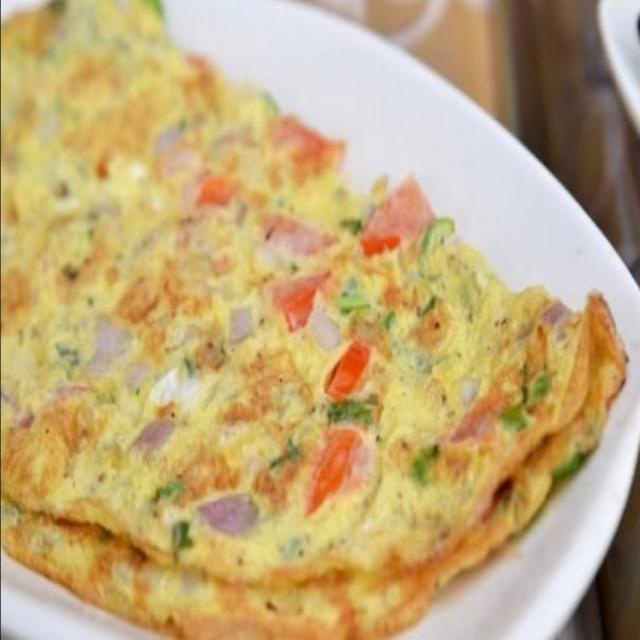EGG: (1, 0, 629, 639)
